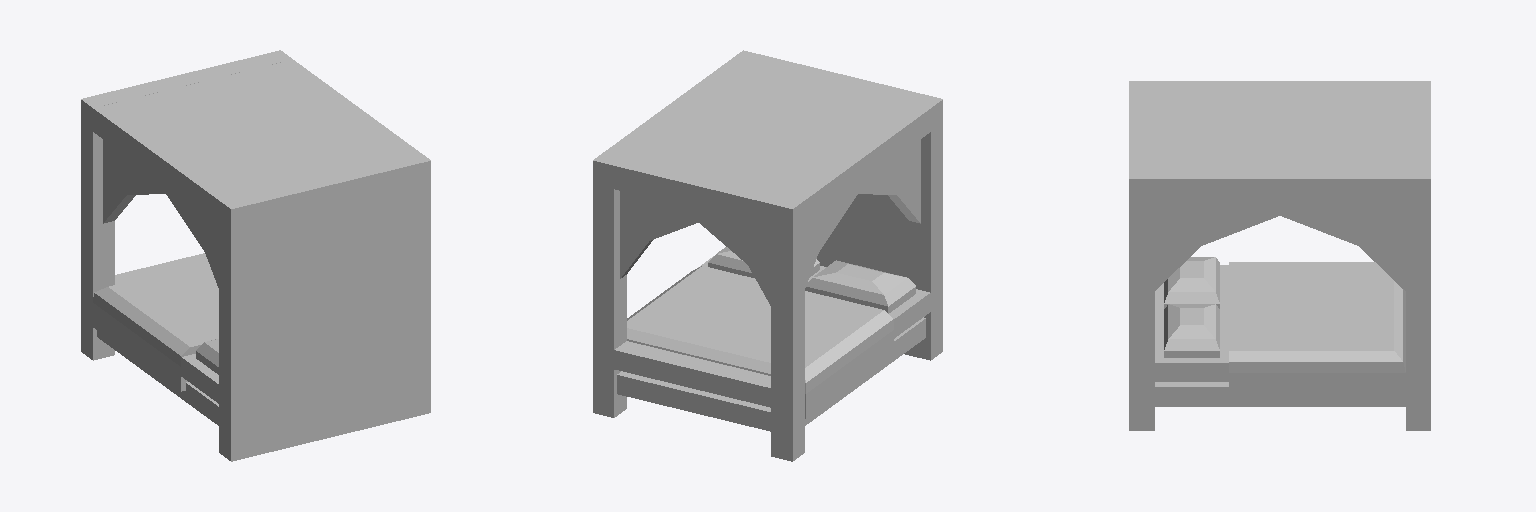
Rendered from bed_4poster_radiantplateau.obj.
3 renders of one model, left to right at view 1: azimuth 30°, elevation 25°; view 2: azimuth 150°, elevation 25°; view 3: azimuth 270°, elevation 25°, orthographic.
Parts seen in each view (by area): view 1: bed_radiant_plateau_4poster; view 2: bed_radiant_plateau_4poster; view 3: bed_radiant_plateau_4poster.
Part boxes in pixels (x1,y1,x2,y2): bed_radiant_plateau_4poster: (81, 50, 430, 461); bed_radiant_plateau_4poster: (593, 50, 942, 461); bed_radiant_plateau_4poster: (1129, 81, 1430, 430).
Bounding box in the file's own units: 1.25 × 1.5 × 1.62.